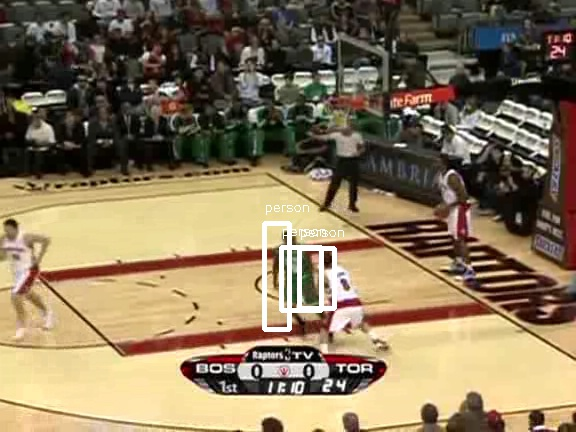person: (282, 237, 316, 318), (281, 237, 315, 318), (283, 237, 317, 318), (282, 236, 316, 317), (282, 238, 316, 319)
target_negative: (269, 76, 498, 332), (27, 155, 213, 357), (442, 204, 545, 388), (179, 186, 321, 276), (467, 304, 539, 389), (455, 118, 457, 122)
